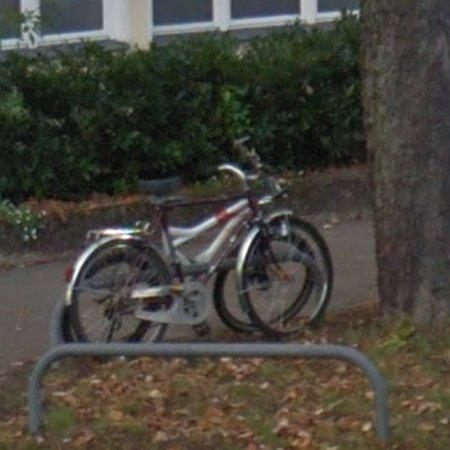bicycles: (242, 215, 334, 336)
